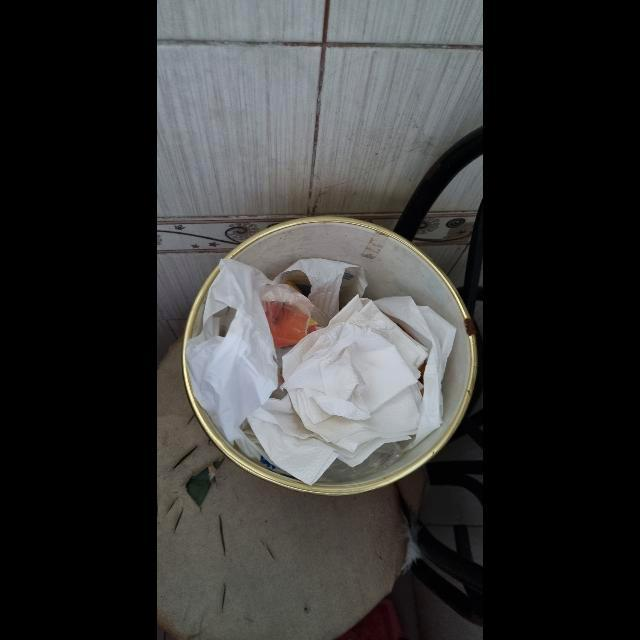paper: (281, 295, 428, 468), (203, 260, 278, 436), (373, 296, 457, 445), (247, 394, 340, 486), (273, 258, 367, 328)
